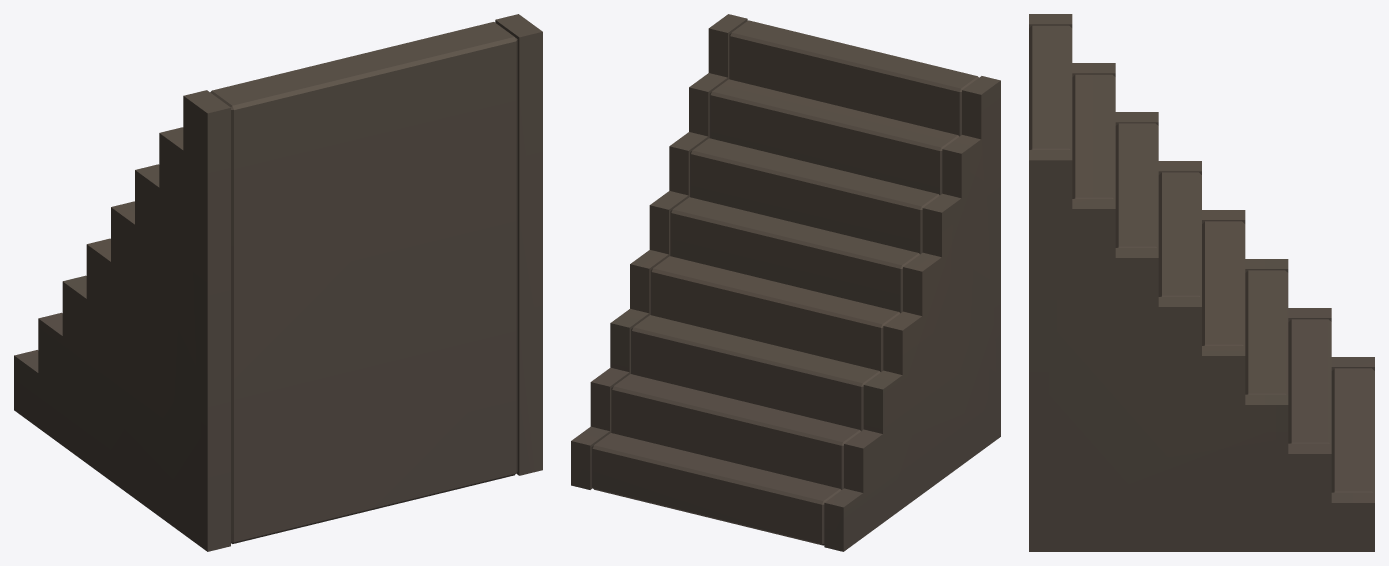
The model's file is Kit_Stairs.glb.
3 renders of one model, left to right at view 1: azimuth 30°, elevation 25°; view 2: azimuth 150°, elevation 25°; view 3: azimuth 270°, elevation 25°, orthographic. The views are drawn at different scales.
Visible parts, largest first — view 1: Weathered walnut beams; view 2: Weathered walnut beams; view 3: Weathered walnut beams.
Boxes of the visible parts, x1,y1,x2,y2 form: Weathered walnut beams: [14, 14, 542, 551]; Weathered walnut beams: [571, 14, 1000, 551]; Weathered walnut beams: [1029, 14, 1374, 551].
Bounding box in the file's own units: 2 × 2.5 × 2.
